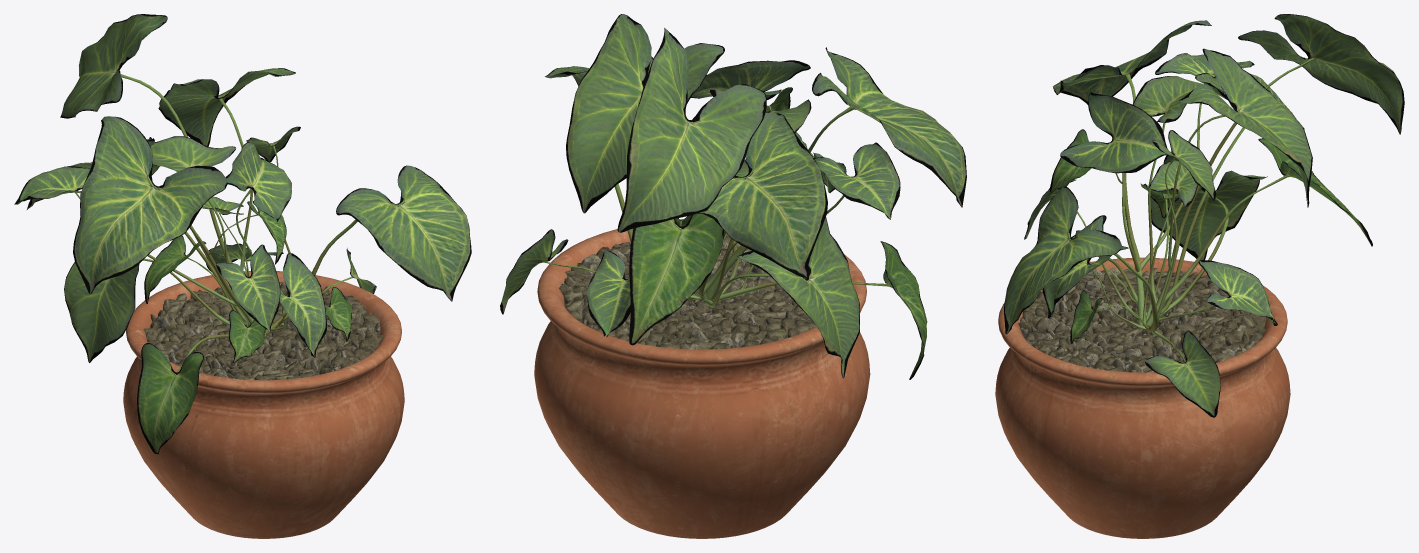
Rendered from plant-wide-2k.glb.
3 views of the same model, side by side, from view 1: azimuth 30°, elevation 25°; view 2: azimuth 150°, elevation 25°; view 3: azimuth 270°, elevation 25° (orthographic). The views are drawn at different scales.
Parts seen in each view (by area): view 1: potted_plant_02_leaves, potted_plant_02_pot; view 2: potted_plant_02_leaves, potted_plant_02_pot; view 3: potted_plant_02_pot, potted_plant_02_leaves.
Boxes of the visible parts, x1,y1,x2,y2 form: potted_plant_02_leaves: [14, 14, 471, 454]; potted_plant_02_pot: [123, 271, 404, 538]; potted_plant_02_leaves: [500, 14, 966, 379]; potted_plant_02_pot: [534, 219, 870, 538]; potted_plant_02_pot: [995, 257, 1290, 538]; potted_plant_02_leaves: [1004, 14, 1404, 417].
Size of the model in its own units: 0.7009 by 0.8412 by 0.6574.
Materials: 2 (2 with a texture image).
